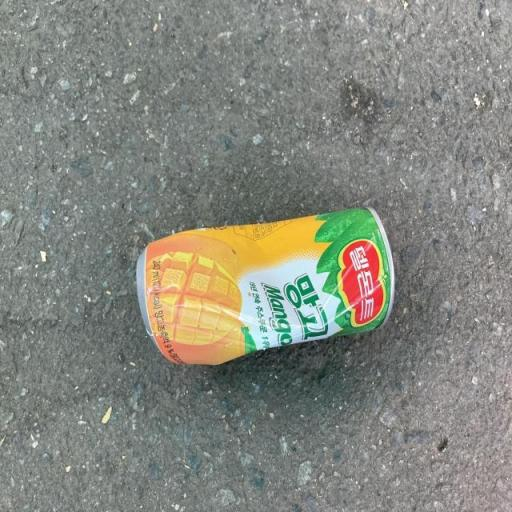metal: (114, 190, 412, 380)
